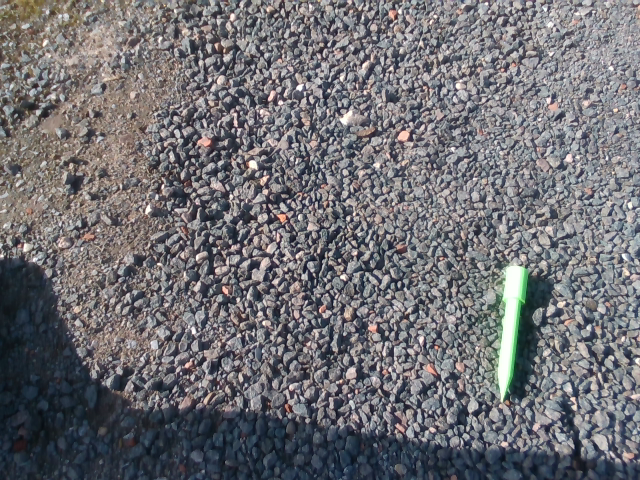Probe: (493, 261, 532, 408)
